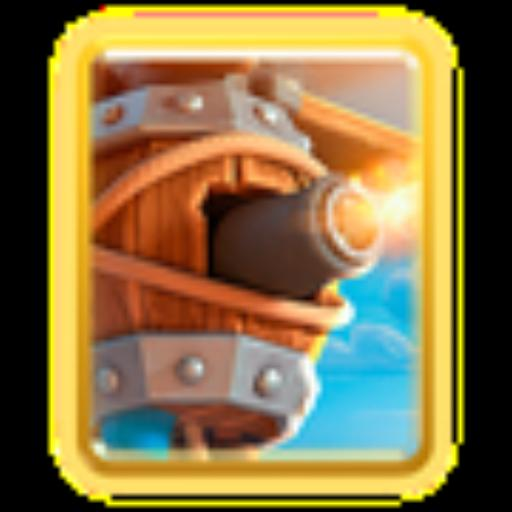flying-machine: (76, 52, 430, 466)
